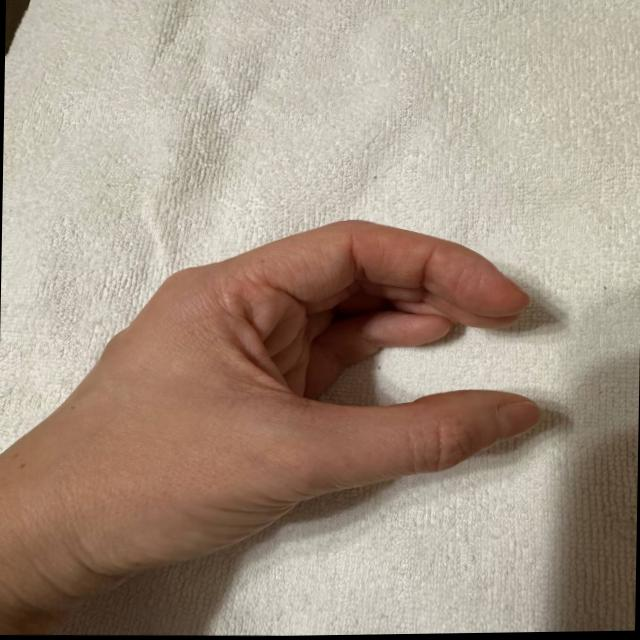s: (48, 134, 556, 526)
